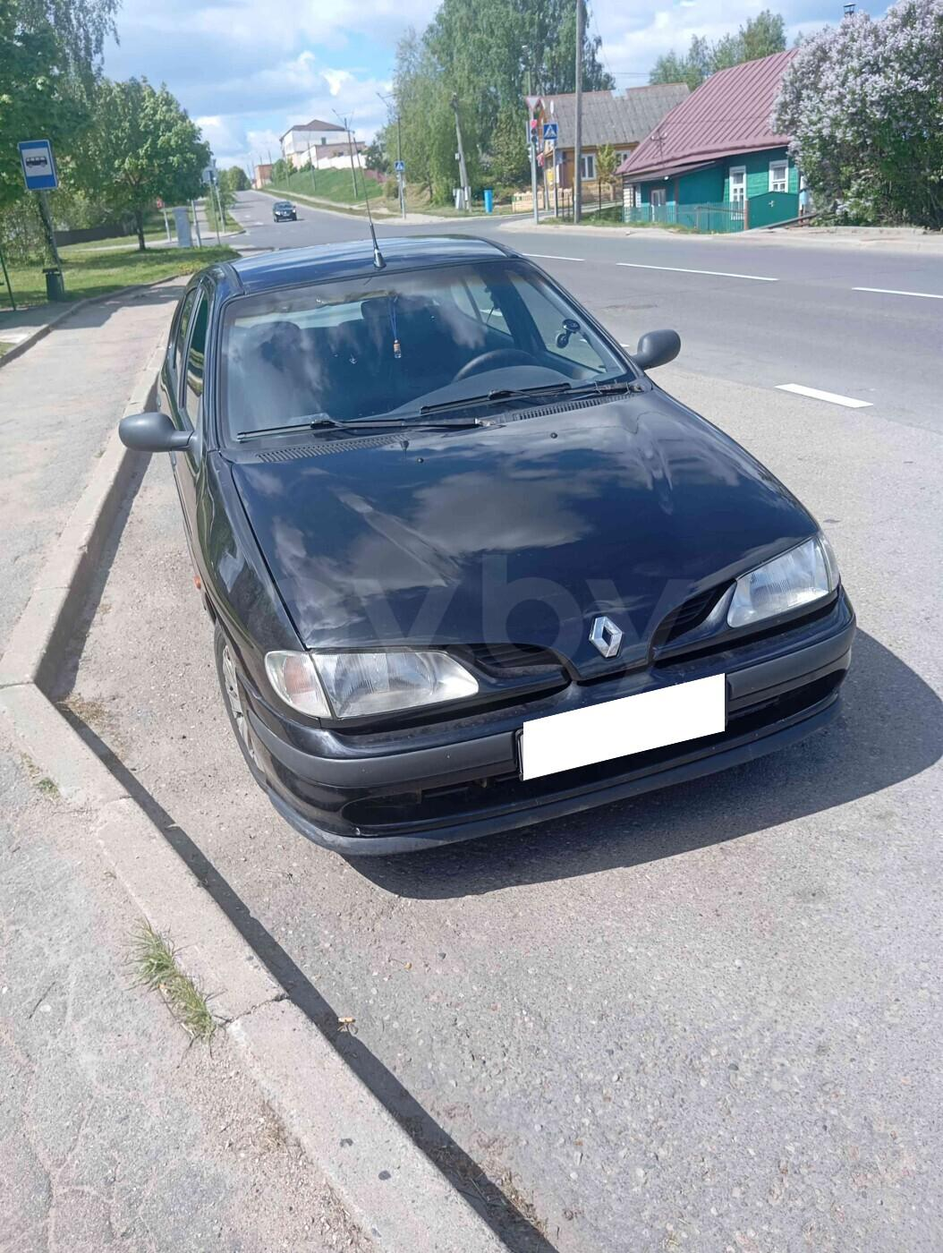Megane_1995-1999: (134, 238, 857, 875)
